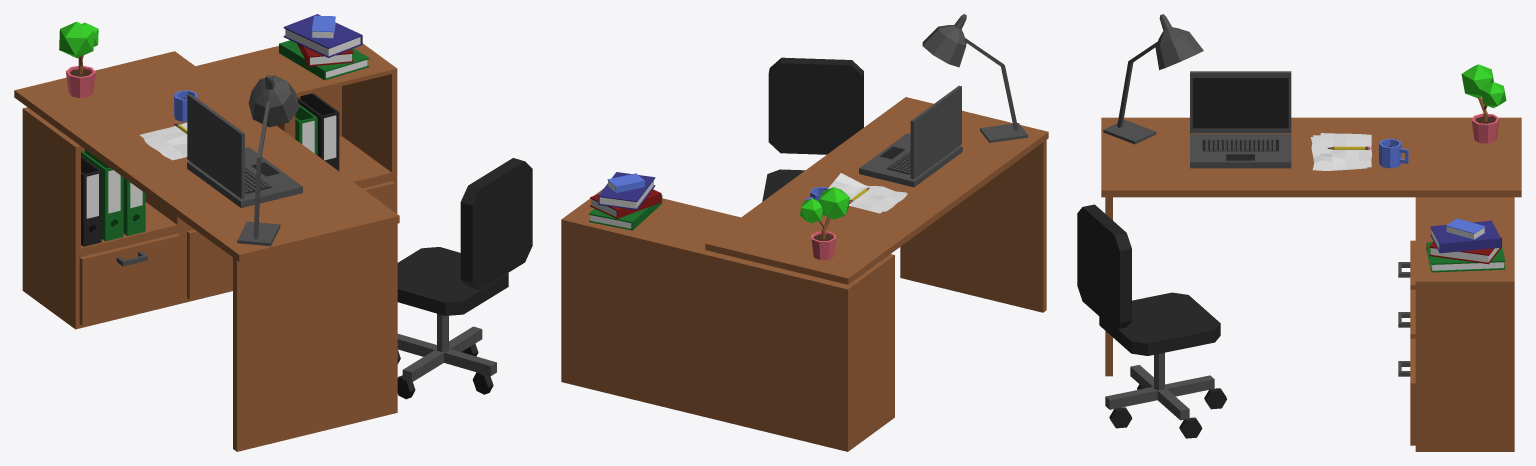
File: desk.glb
The picture shows the model from 3 angles, left to right: view 1: azimuth 30°, elevation 25°; view 2: azimuth 150°, elevation 25°; view 3: azimuth 270°, elevation 25°; orthographic projection. The views are drawn at different scales.
Visible parts, largest first — view 1: Desk, Chair, Laptop, Folders1, Lamp, Folders3, Plant, Book3, Book1, Paper3, Book2, Book4; view 2: Desk, Chair, Laptop, Lamp, Plant, Paper3, Book3, Book1, Book2, Book4; view 3: Desk, Chair, Laptop, Screen, Lamp, Plant, Paper3, Book3, Book1, Book2, Mug, Book4.
Part boxes in pixels (x1=…): Desk: x1=14, y1=43, x2=399, y2=451; Chair: x1=397, y1=158, x2=532, y2=399; Laptop: x1=187, y1=94, x2=302, y2=207; Folders1: x1=81, y1=149, x2=145, y2=246; Lamp: x1=237, y1=75, x2=299, y2=246; Folders3: x1=295, y1=93, x2=339, y2=170; Plant: x1=59, y1=21, x2=98, y2=97; Book3: x1=283, y1=14, x2=362, y2=57; Book1: x1=279, y1=40, x2=369, y2=80; Paper3: x1=140, y1=122, x2=187, y2=153; Book2: x1=297, y1=43, x2=353, y2=66; Book4: x1=311, y1=15, x2=335, y2=38; Desk: x1=561, y1=97, x2=1048, y2=451; Chair: x1=762, y1=57, x2=863, y2=201; Laptop: x1=859, y1=85, x2=962, y2=187; Lamp: x1=922, y1=14, x2=1028, y2=142; Plant: x1=800, y1=187, x2=849, y2=259; Paper3: x1=828, y1=173, x2=904, y2=213; Book3: x1=598, y1=172, x2=655, y2=210; Book1: x1=589, y1=195, x2=662, y2=230; Book2: x1=590, y1=189, x2=661, y2=218; Book4: x1=607, y1=173, x2=644, y2=192; Desk: x1=1101, y1=117, x2=1521, y2=451; Chair: x1=1077, y1=204, x2=1226, y2=438; Laptop: x1=1190, y1=71, x2=1291, y2=168; Screen: x1=1192, y1=78, x2=1288, y2=128; Lamp: x1=1103, y1=14, x2=1203, y2=144; Plant: x1=1461, y1=64, x2=1506, y2=143; Paper3: x1=1320, y1=133, x2=1371, y2=167; Book3: x1=1430, y1=220, x2=1500, y2=253; Book1: x1=1426, y1=242, x2=1505, y2=272; Book2: x1=1429, y1=237, x2=1501, y2=264; Mug: x1=1379, y1=138, x2=1408, y2=168; Book4: x1=1446, y1=218, x2=1485, y2=239.
Size of the model in its own units: 1.42 by 1.45 by 1.8.
